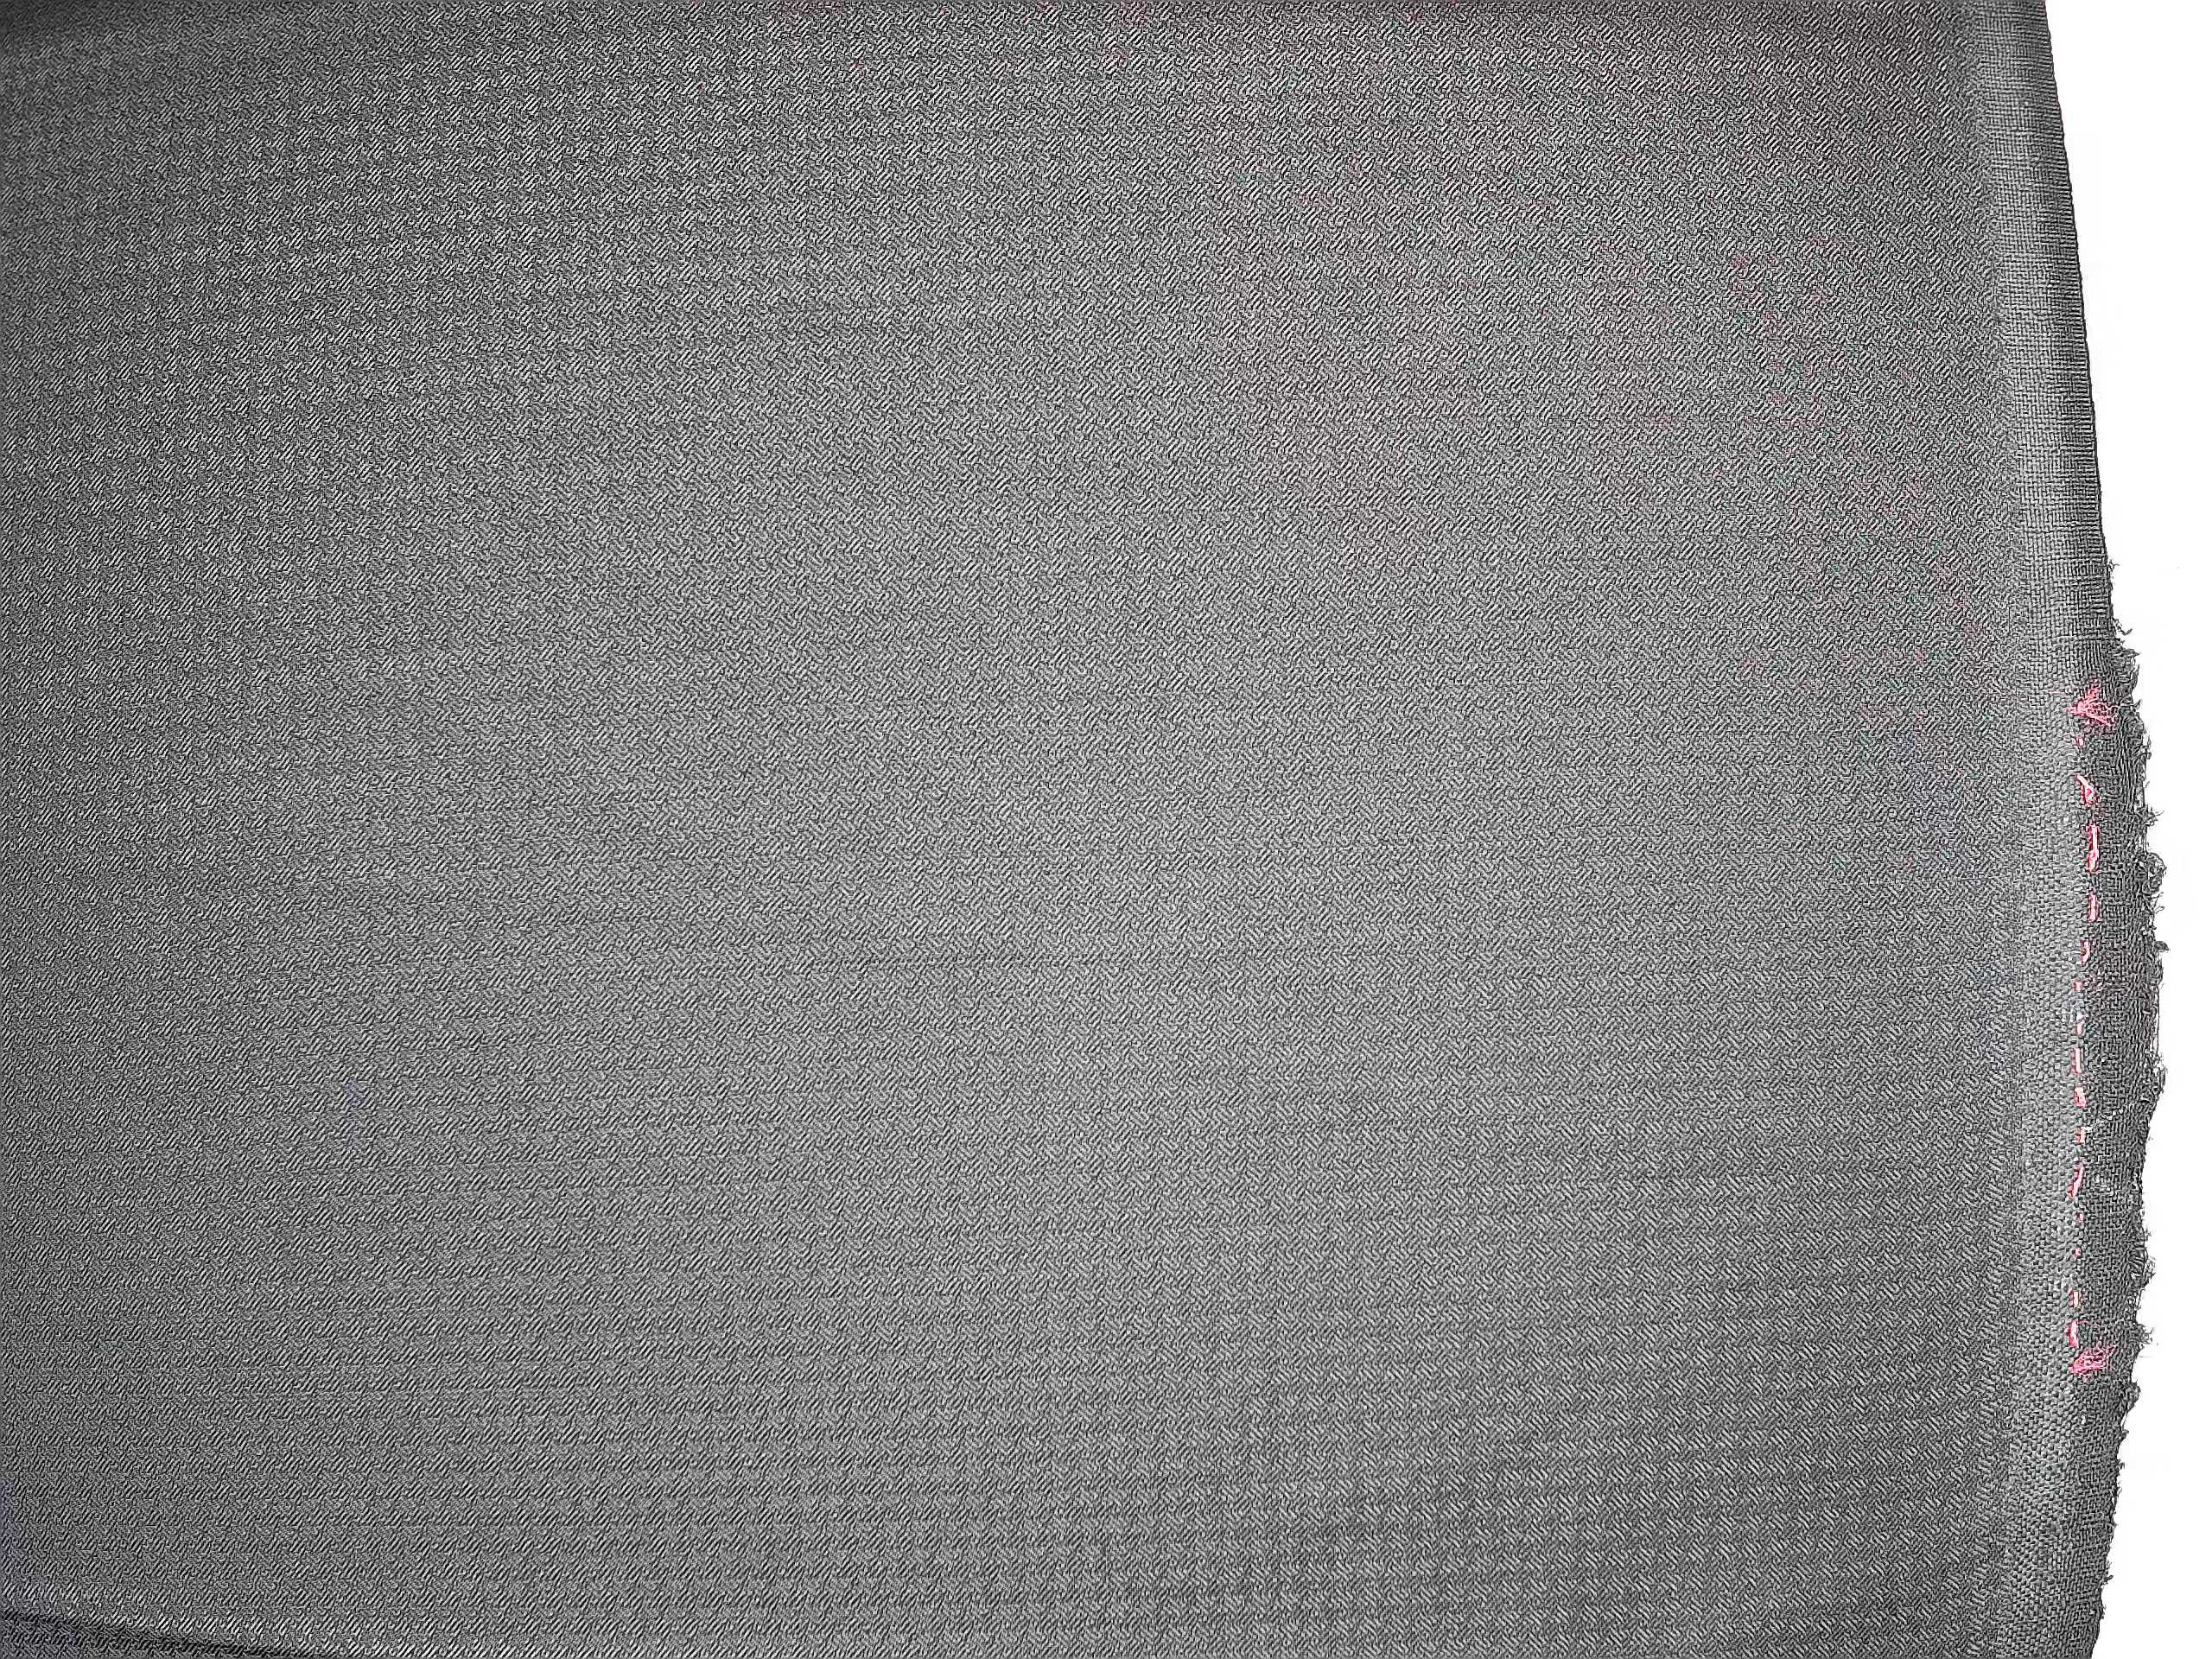others: (1968, 596, 2163, 1469)
